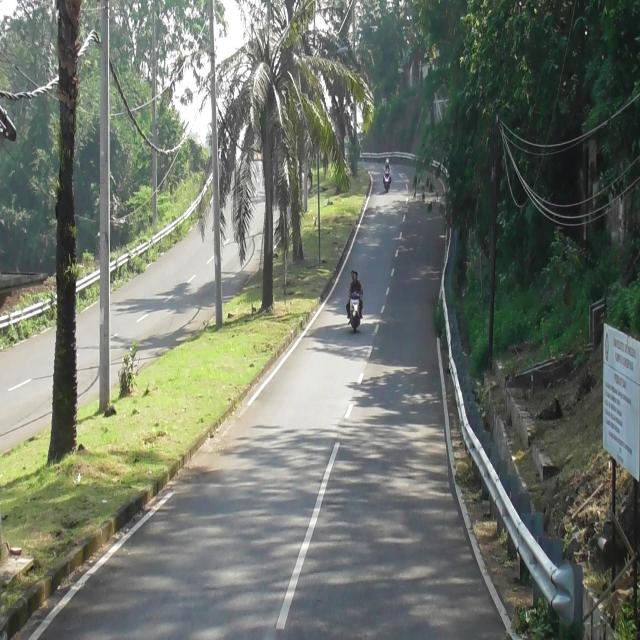motorcycle: (350, 292, 360, 333), (384, 170, 391, 192)
person: (352, 272, 362, 296), (383, 158, 391, 172), (350, 270, 355, 284)
rider_region: (348, 270, 365, 332), (382, 152, 393, 193)
